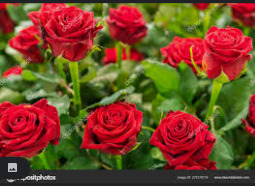RedRose: (34, 4, 100, 64), (0, 100, 65, 160), (78, 103, 143, 158), (151, 111, 217, 165), (203, 23, 254, 81), (104, 2, 152, 48)
